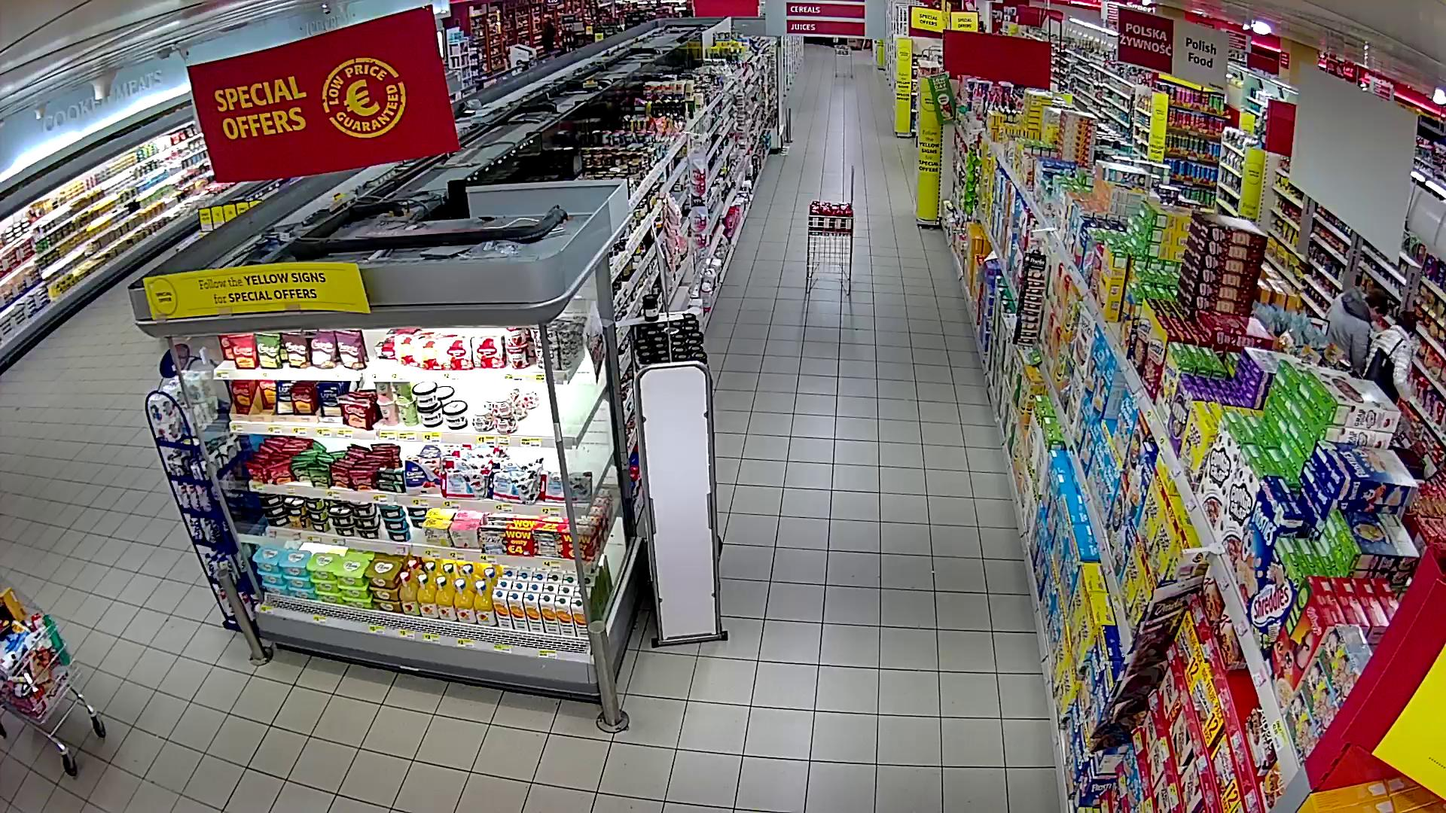filled-trolly: (0, 571, 106, 775)
